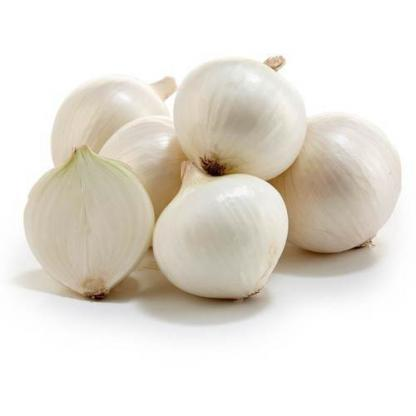onion: (175, 49, 322, 190)
